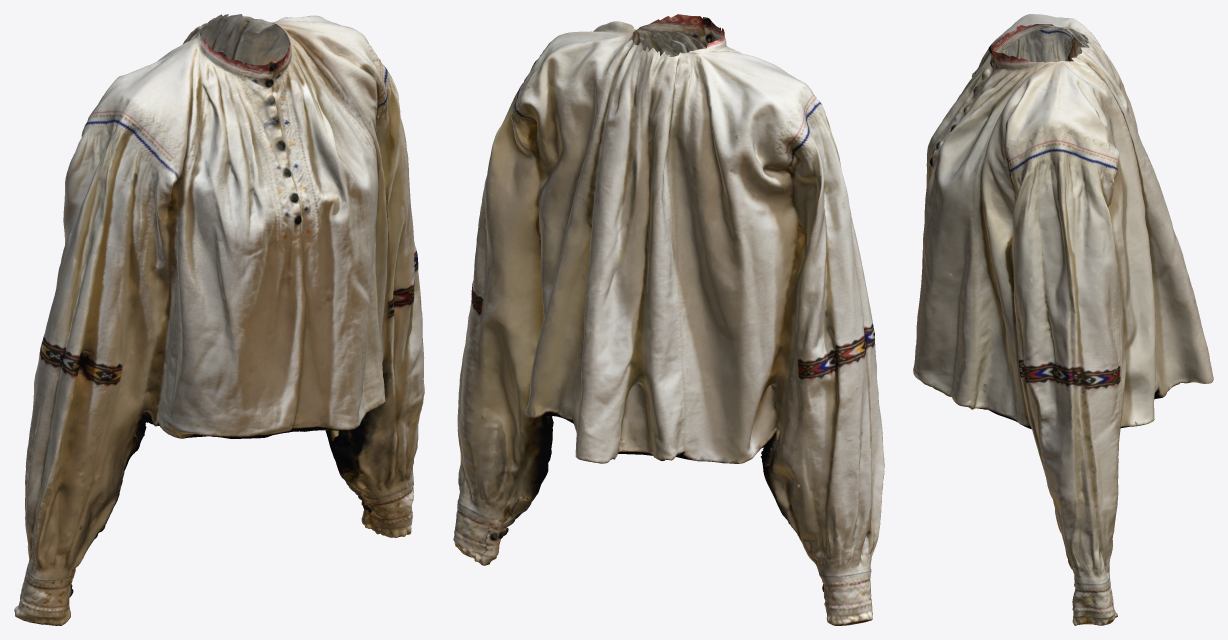
File: shirt_2.glb
3 renders of one model, left to right at view 1: azimuth 30°, elevation 25°; view 2: azimuth 150°, elevation 25°; view 3: azimuth 270°, elevation 25°, orthographic. The views are drawn at different scales.
Parts seen in each view (by area): view 1: Object_2; view 2: Object_2; view 3: Object_2.
Boxes of the visible parts, x1,y1,x2,y2 form: Object_2: (14,14,424,625); Object_2: (453,14,884,625); Object_2: (913,14,1213,625).
Bounding box in the file's own units: 0.8162 × 1.06 × 0.5701.
Materials: 1 (1 with a texture image).
